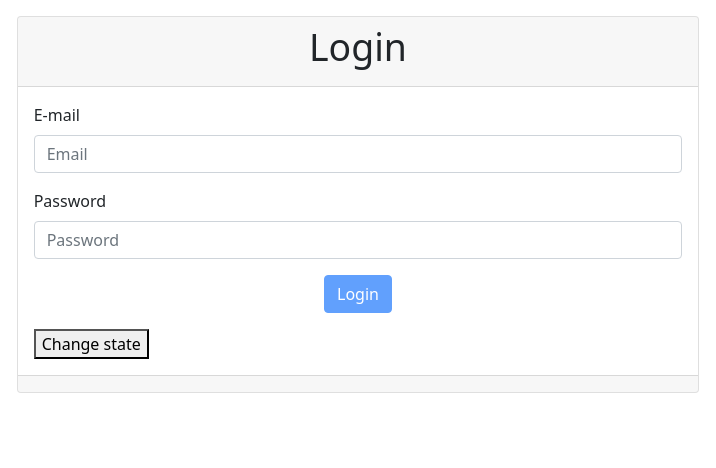
Login page testing library › Interacions › Should displays authentication message
Type "carloscpu@gmail.com" into the field with test id "email" at (358, 154), box [34,135,682,173]
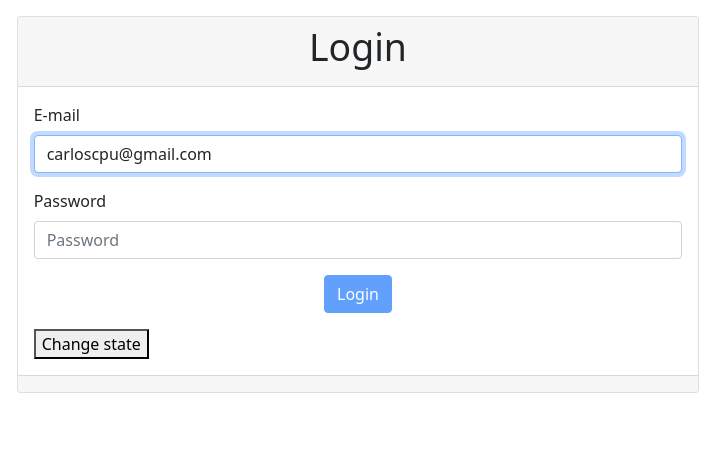
Type "mipass" into the password field with test id "password" at (358, 240), box [34,221,682,259]
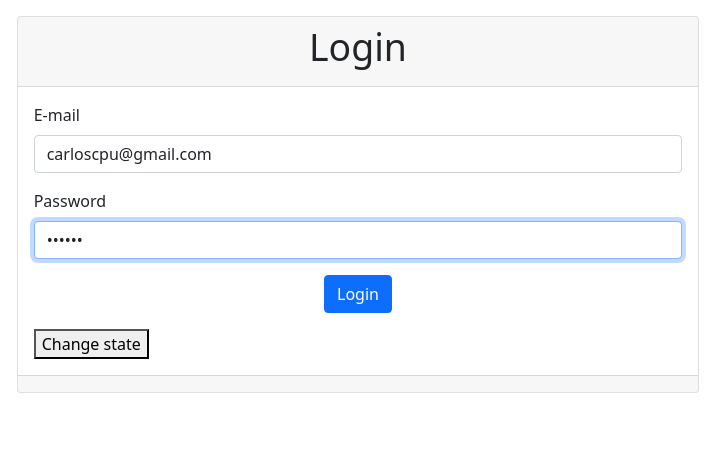
Click the button with test id "sendButton" at (358, 294), box [324,275,392,313]
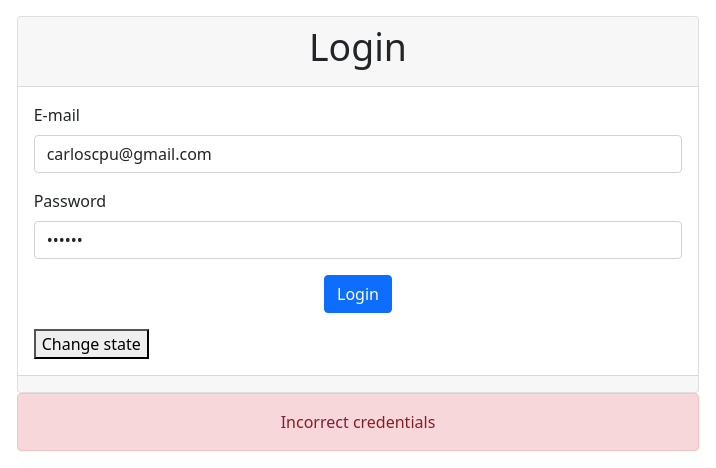
Check: the text "Incorrect credentials" is shown, box [17,393,699,451]
